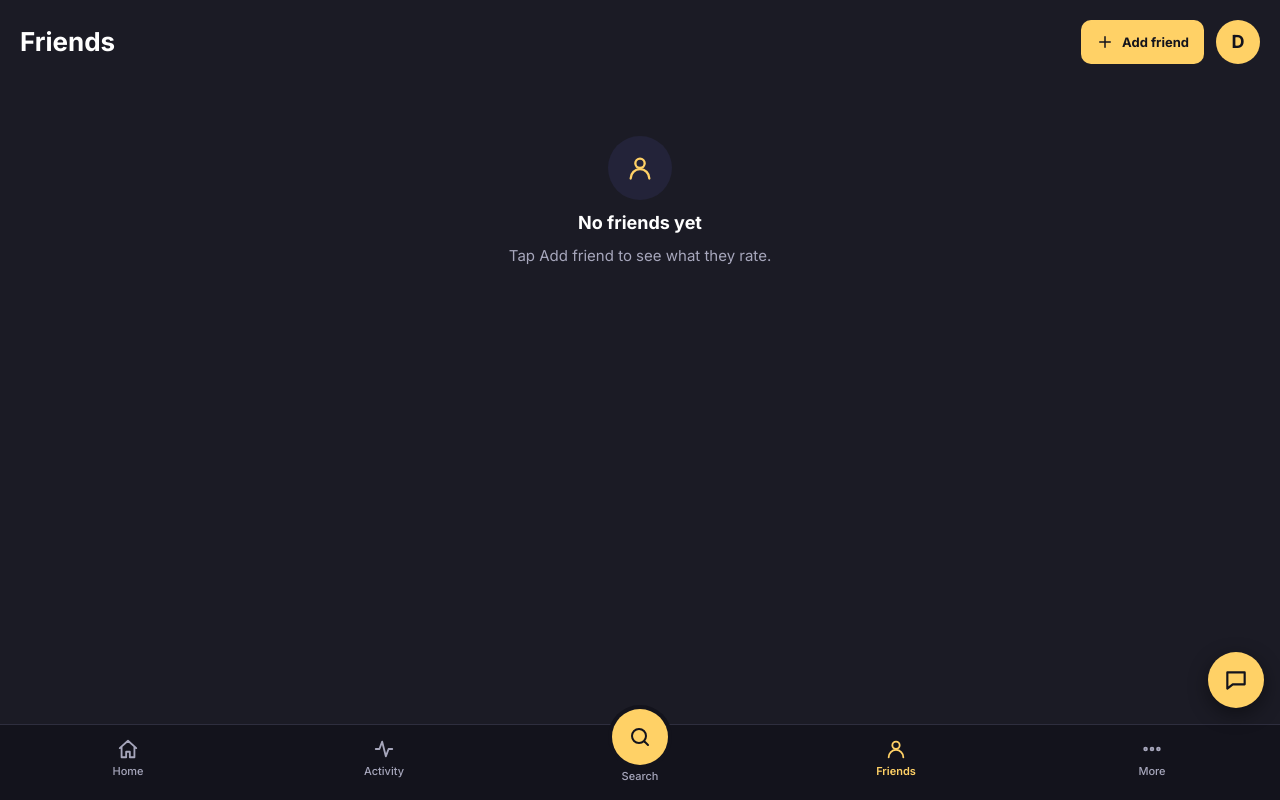
Scenario: Add friend sheet › says so when nobody matches, and asks for 2 characters first
Step 1. Click the button "Add friend" → x=1142, y=42, box x1=1081 y1=20 x2=1204 y2=64
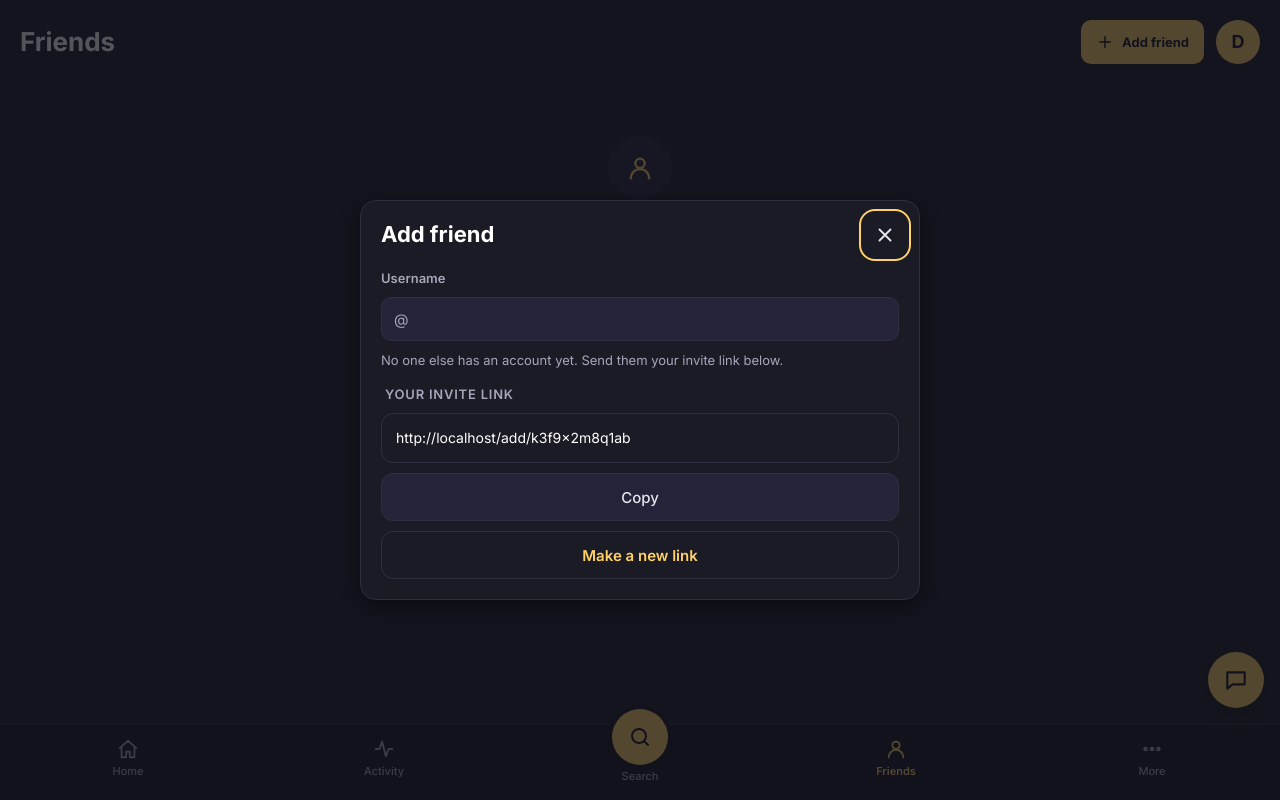
Step 2. Type "r" into the field labelled "Username" → x=648, y=319, box x1=410 y1=298 x2=886 y2=340
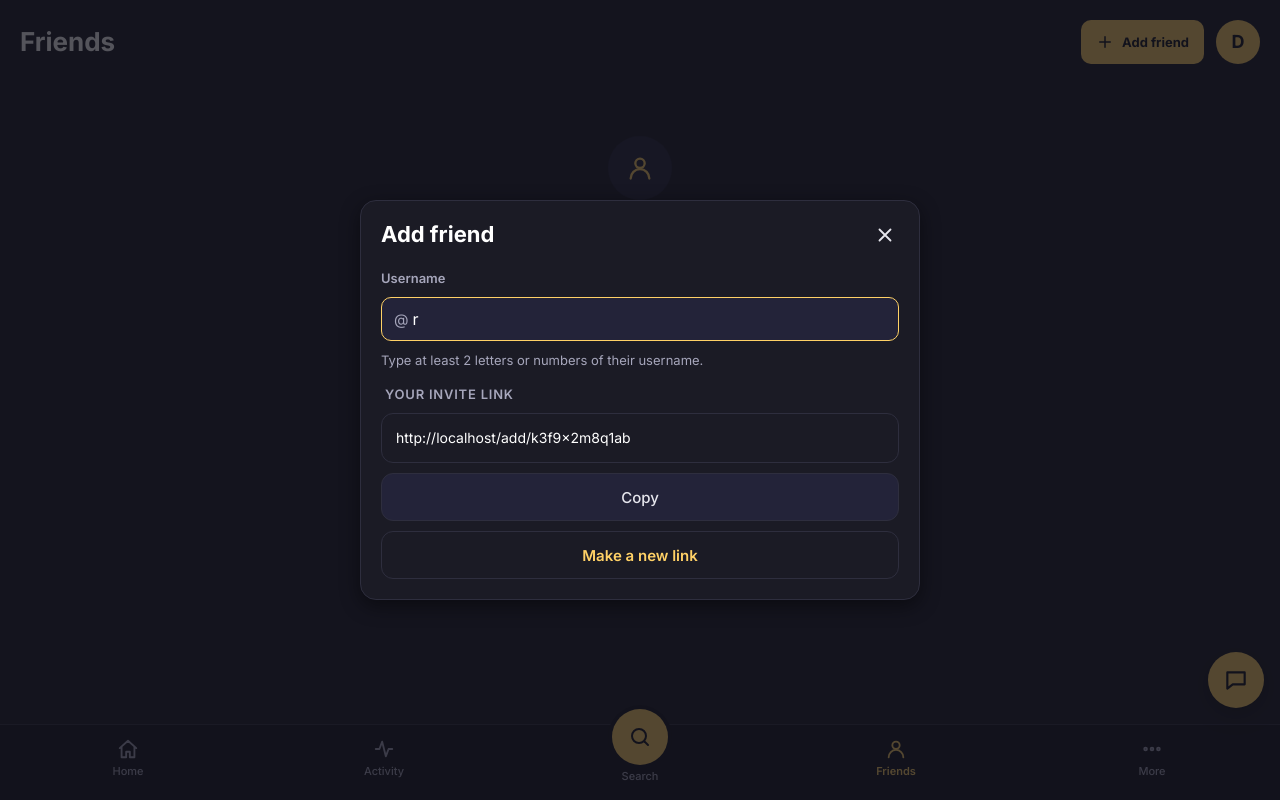
Expected: the text "Type at least 2 letters or numbers of their username." is shown, x1=381 y1=352 x2=703 y2=368
Step 3. Type "x" into the field labelled "Username" → x=648, y=319, box x1=410 y1=298 x2=886 y2=340
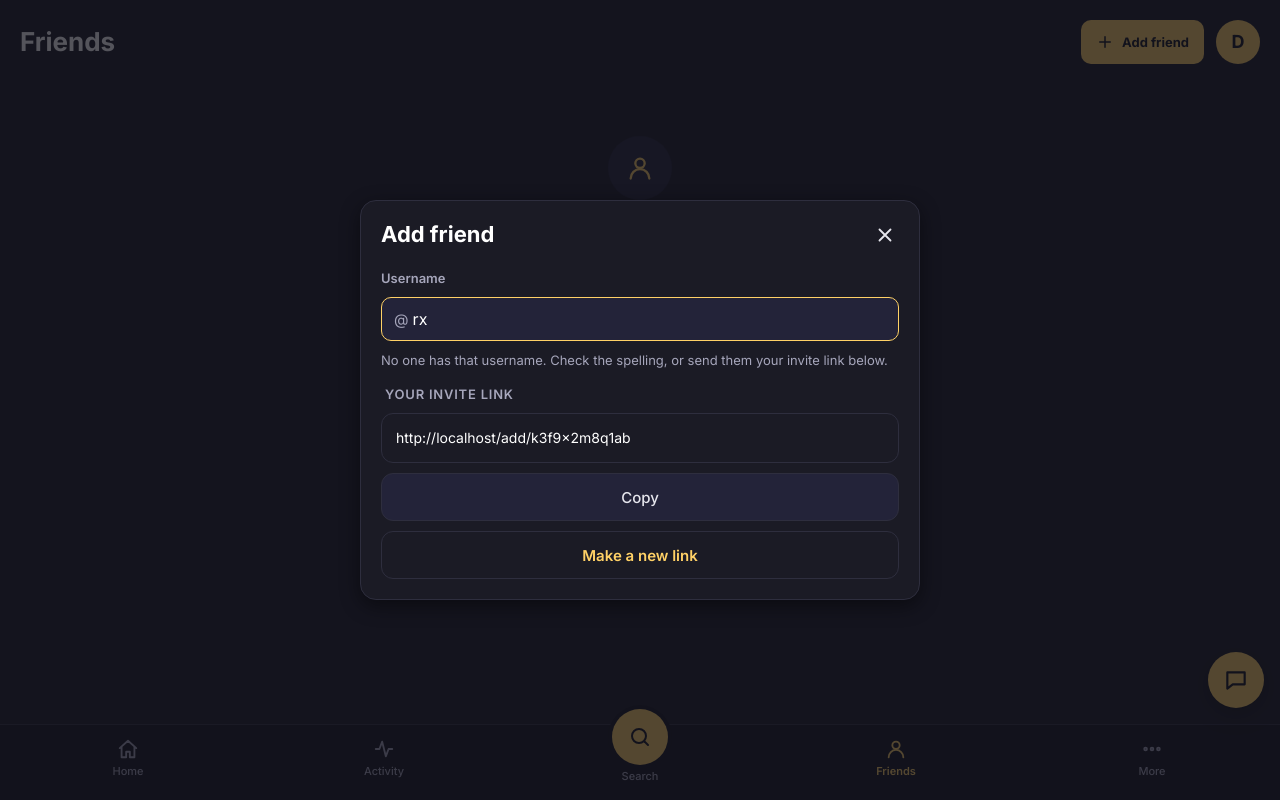
Expected: the text "No one has that username" is shown, x1=381 y1=352 x2=888 y2=368
